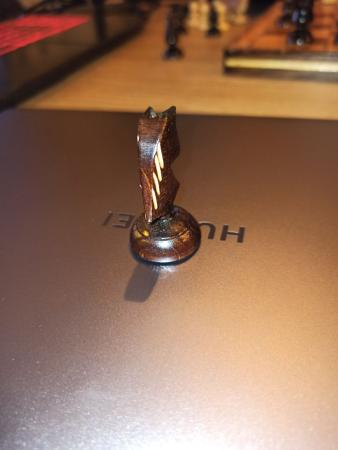bknight: (127, 104, 205, 265)
